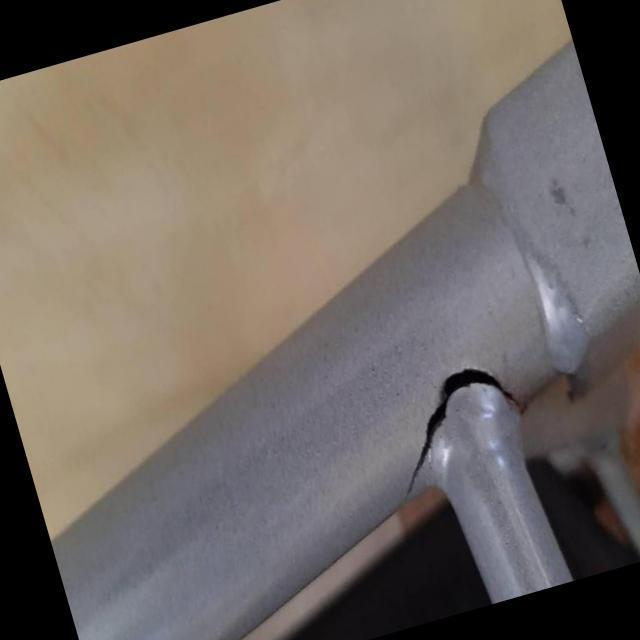defect: (401, 354, 534, 506)
